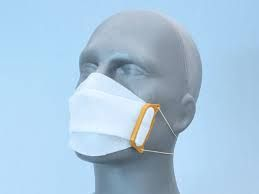with-mask: (67, 12, 197, 171)
